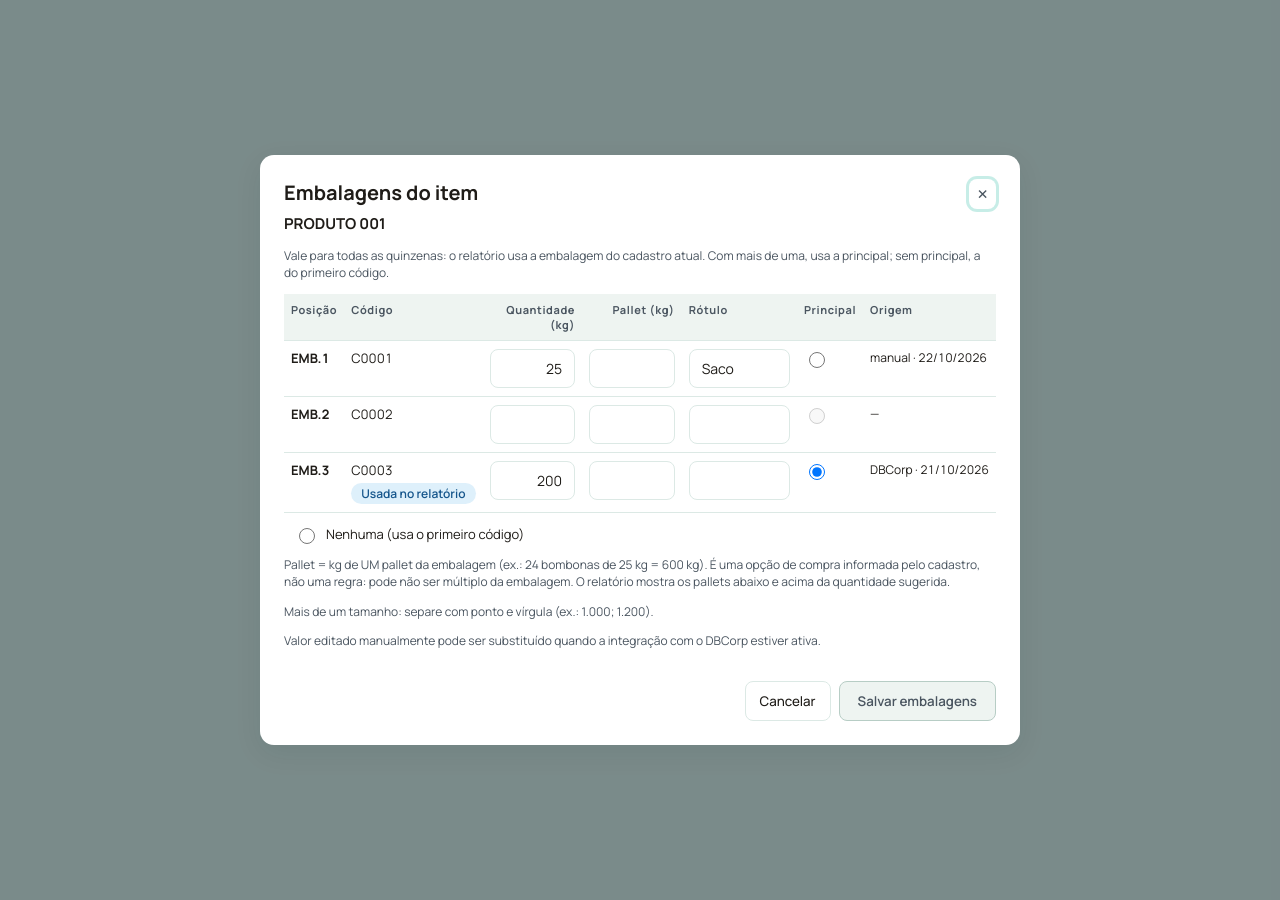
Test case: ForecastEmbalagensModal › Salvar envia so o que mudou e confirma com o relatorio invalidado
The image size is (1280, 900).
Expected: the text "PRODUTO 001" is shown, [284,213,386,235]
Replace the text in the field named "Quantidade em kg do código C0003" with "22,68": (532, 480) [490,461,575,500]
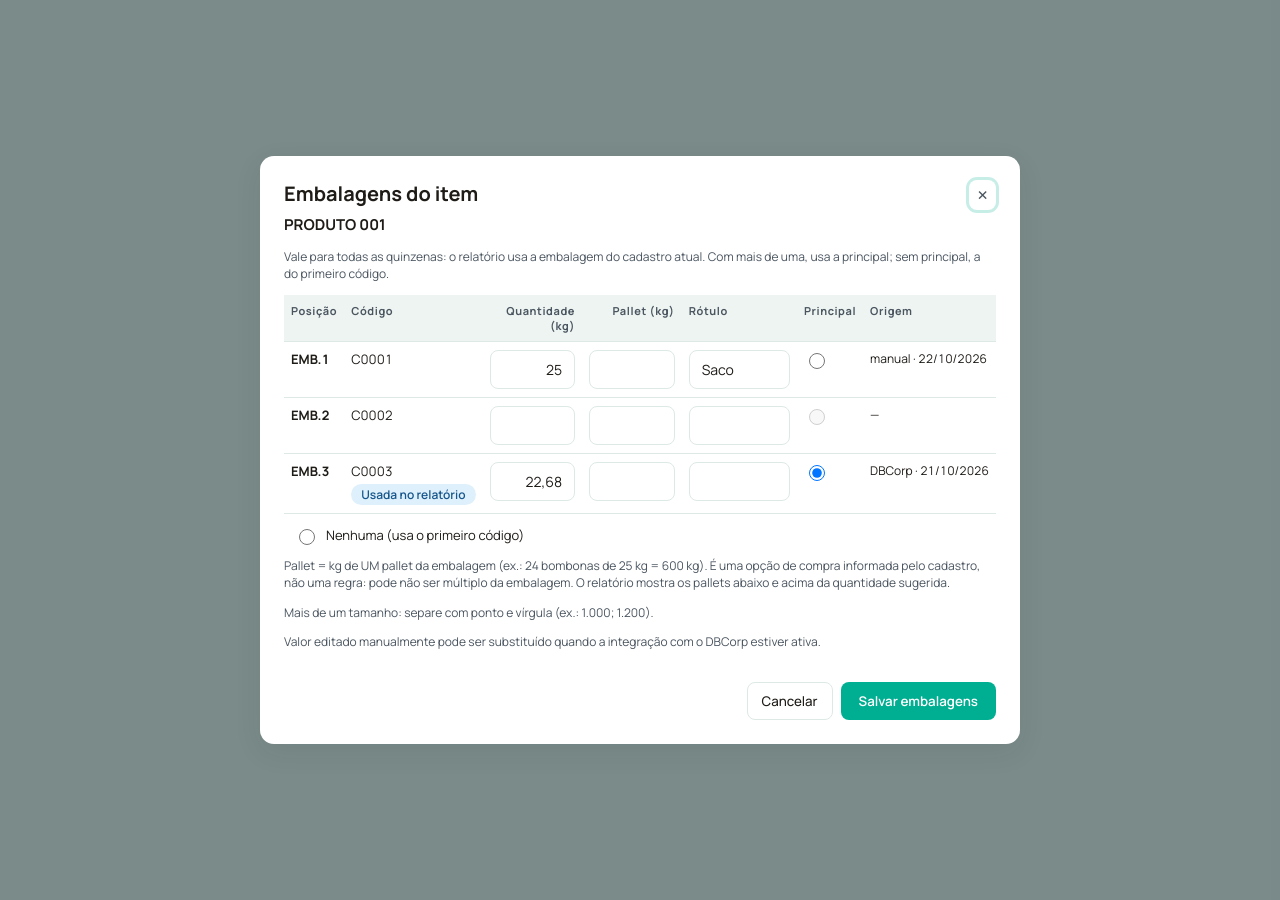
Now the button "Salvar embalagens" is enabled
Click the button "Salvar embalagens": (918, 701) [841,682,996,720]
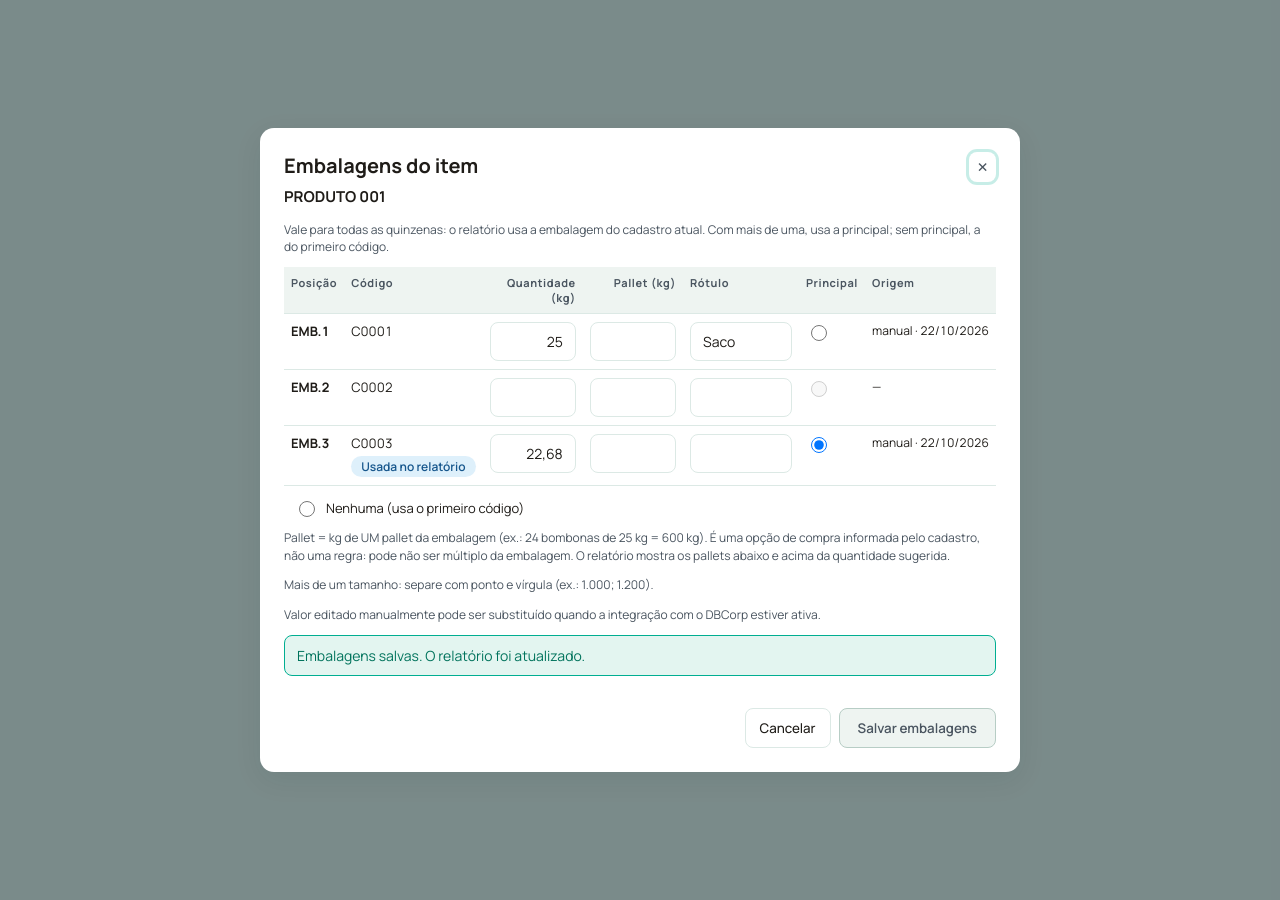
Now the text "Embalagens salvas. O relatório foi atualizado." is shown, box [284,635,996,676]
Now the button "Salvar embalagens" is disabled, box [839,708,996,748]
